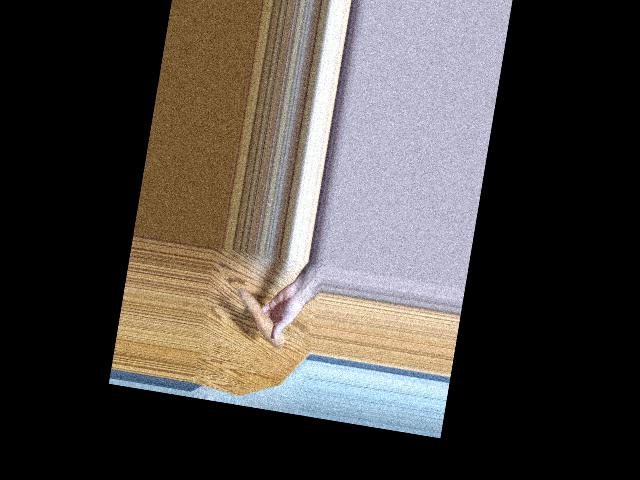sweet_potato: (231, 288, 292, 347)
